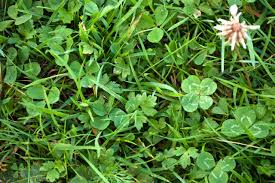4-clover: (180, 74, 216, 112)
